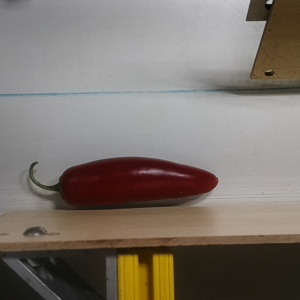Cut Point: (50, 166, 81, 209)
